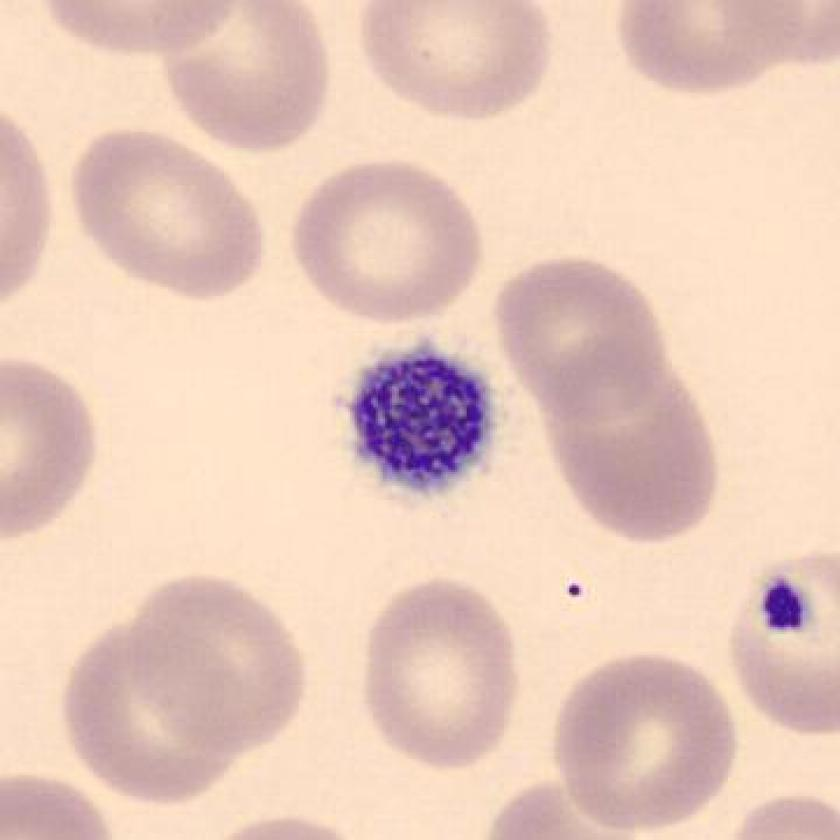platelets: (332, 332, 517, 510)
